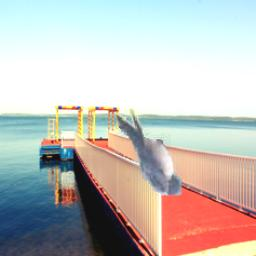Swallow: (117, 108, 181, 196)
